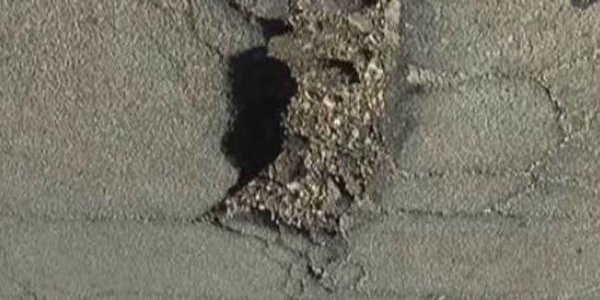pothole: (190, 0, 410, 252)
